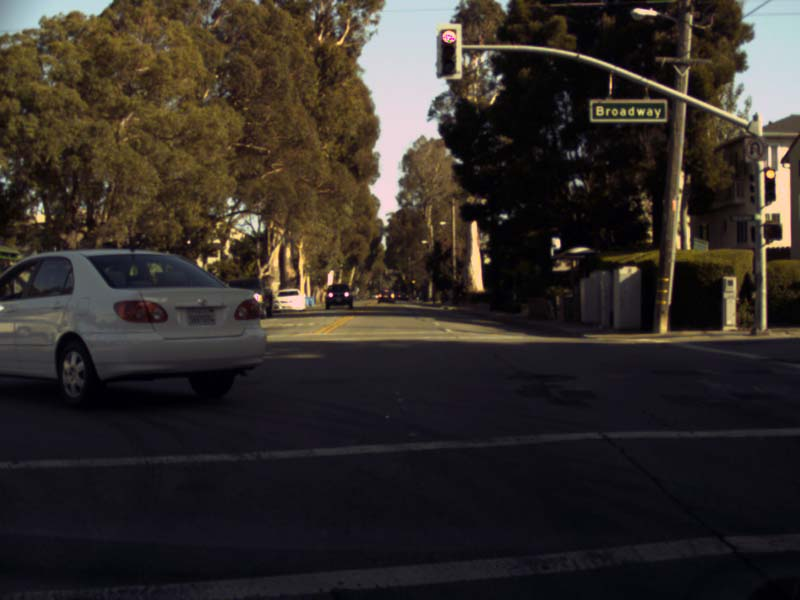Red: (440, 30, 455, 73), (764, 168, 776, 199), (411, 279, 416, 288)
